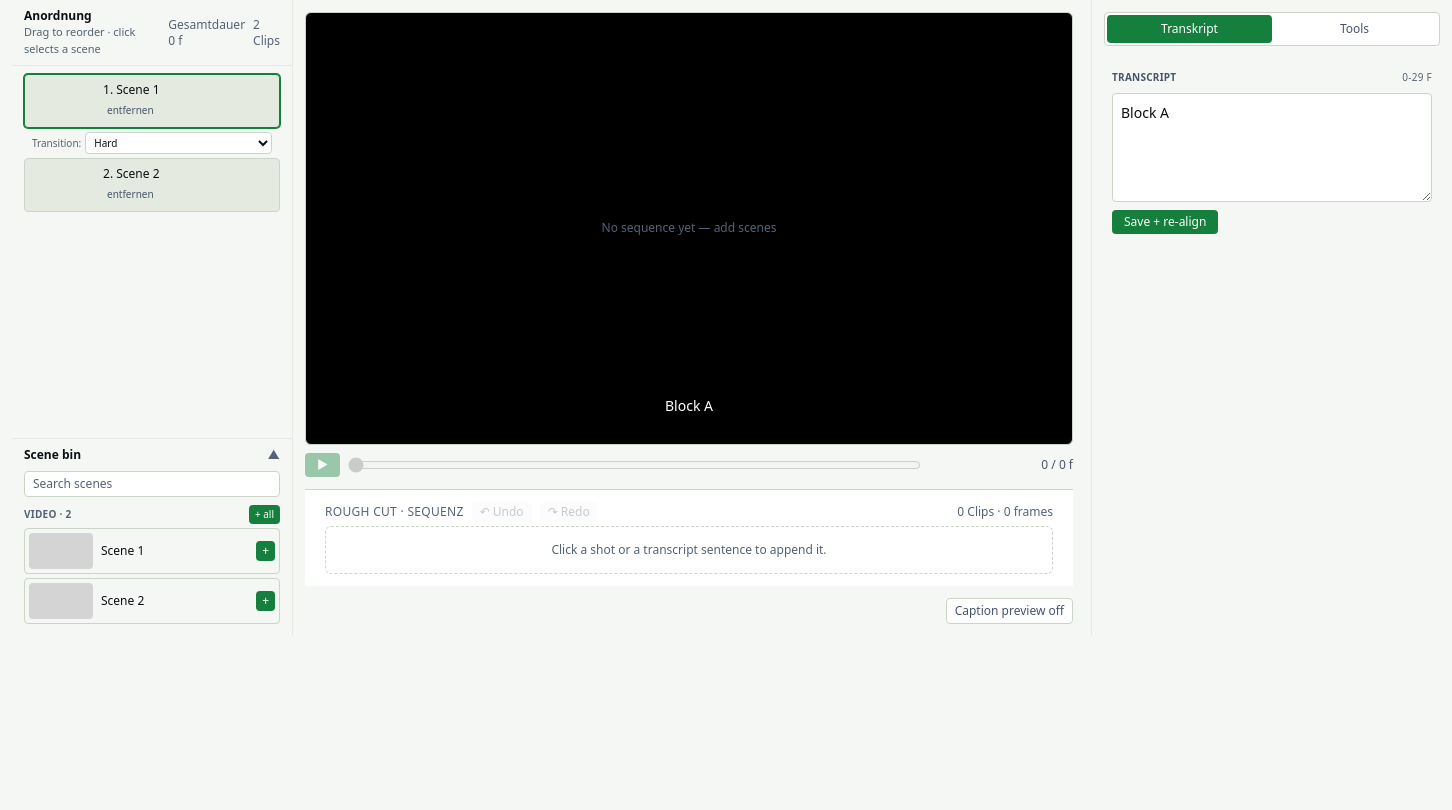
Test case: AssembleView › scopes the transcript to the active scene and switches it on storyboard selection
Check: the text box showing "Block A" is shown, box [1112,93,1432,202]
Check: the field showing "Block B" is not shown
# Click the second storyboard card → transcript switches to Block B.
What coordinates should you click on to do the following:
click the button "2. Scene 2"
I would click on:
 (188, 174)
Its box is [103,166,273,182].
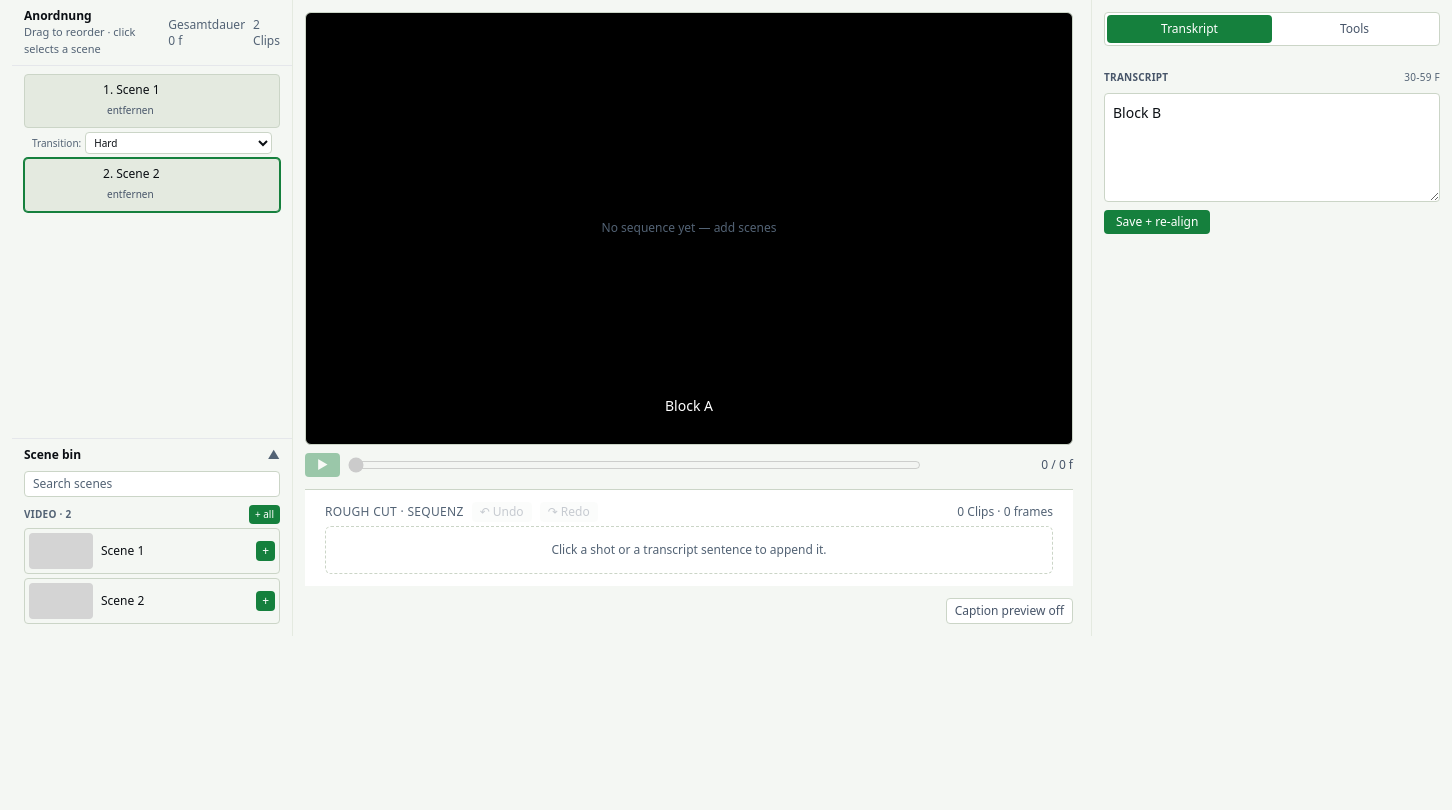
Check: the text box showing "Block B" is shown, box [1104,93,1440,202]
